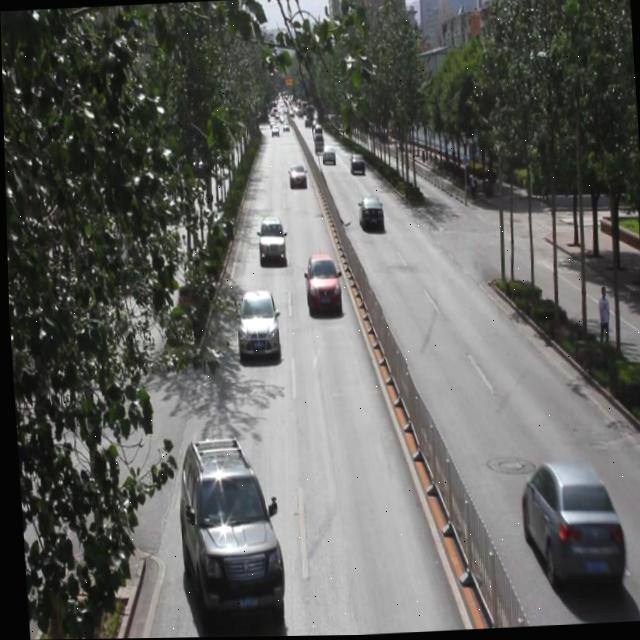car: (172, 437, 281, 623), (515, 460, 622, 591), (234, 289, 278, 359), (301, 254, 341, 317), (255, 216, 285, 263), (355, 195, 382, 233), (286, 163, 304, 189), (346, 153, 363, 176), (319, 145, 334, 166)
truck: (312, 133, 323, 154)
